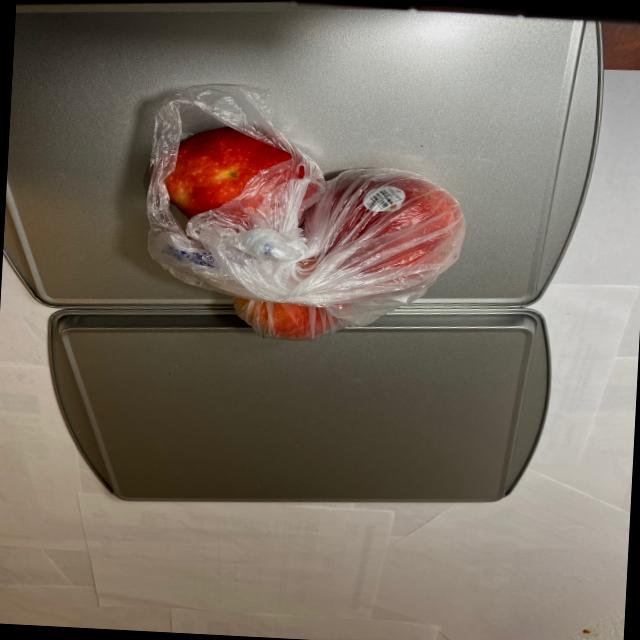apple: (138, 114, 466, 350)
